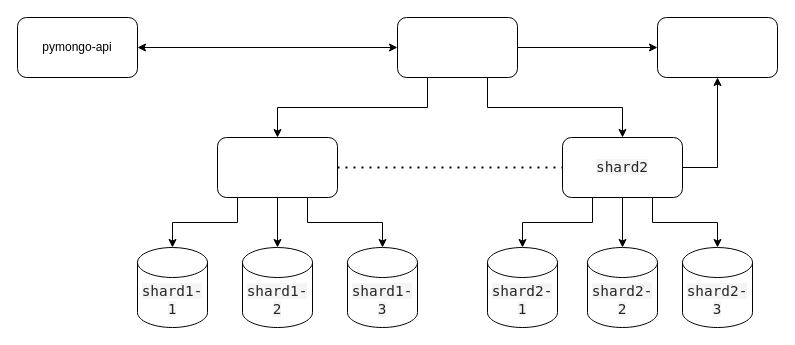
The diagram is 795 pixels wide and 345 high, and some of its shapes have lost their labels. Each missing label, with the centre of its shape:
configSrv: pixel 717 47
router: pixel 457 47
shard1: pixel 277 167
